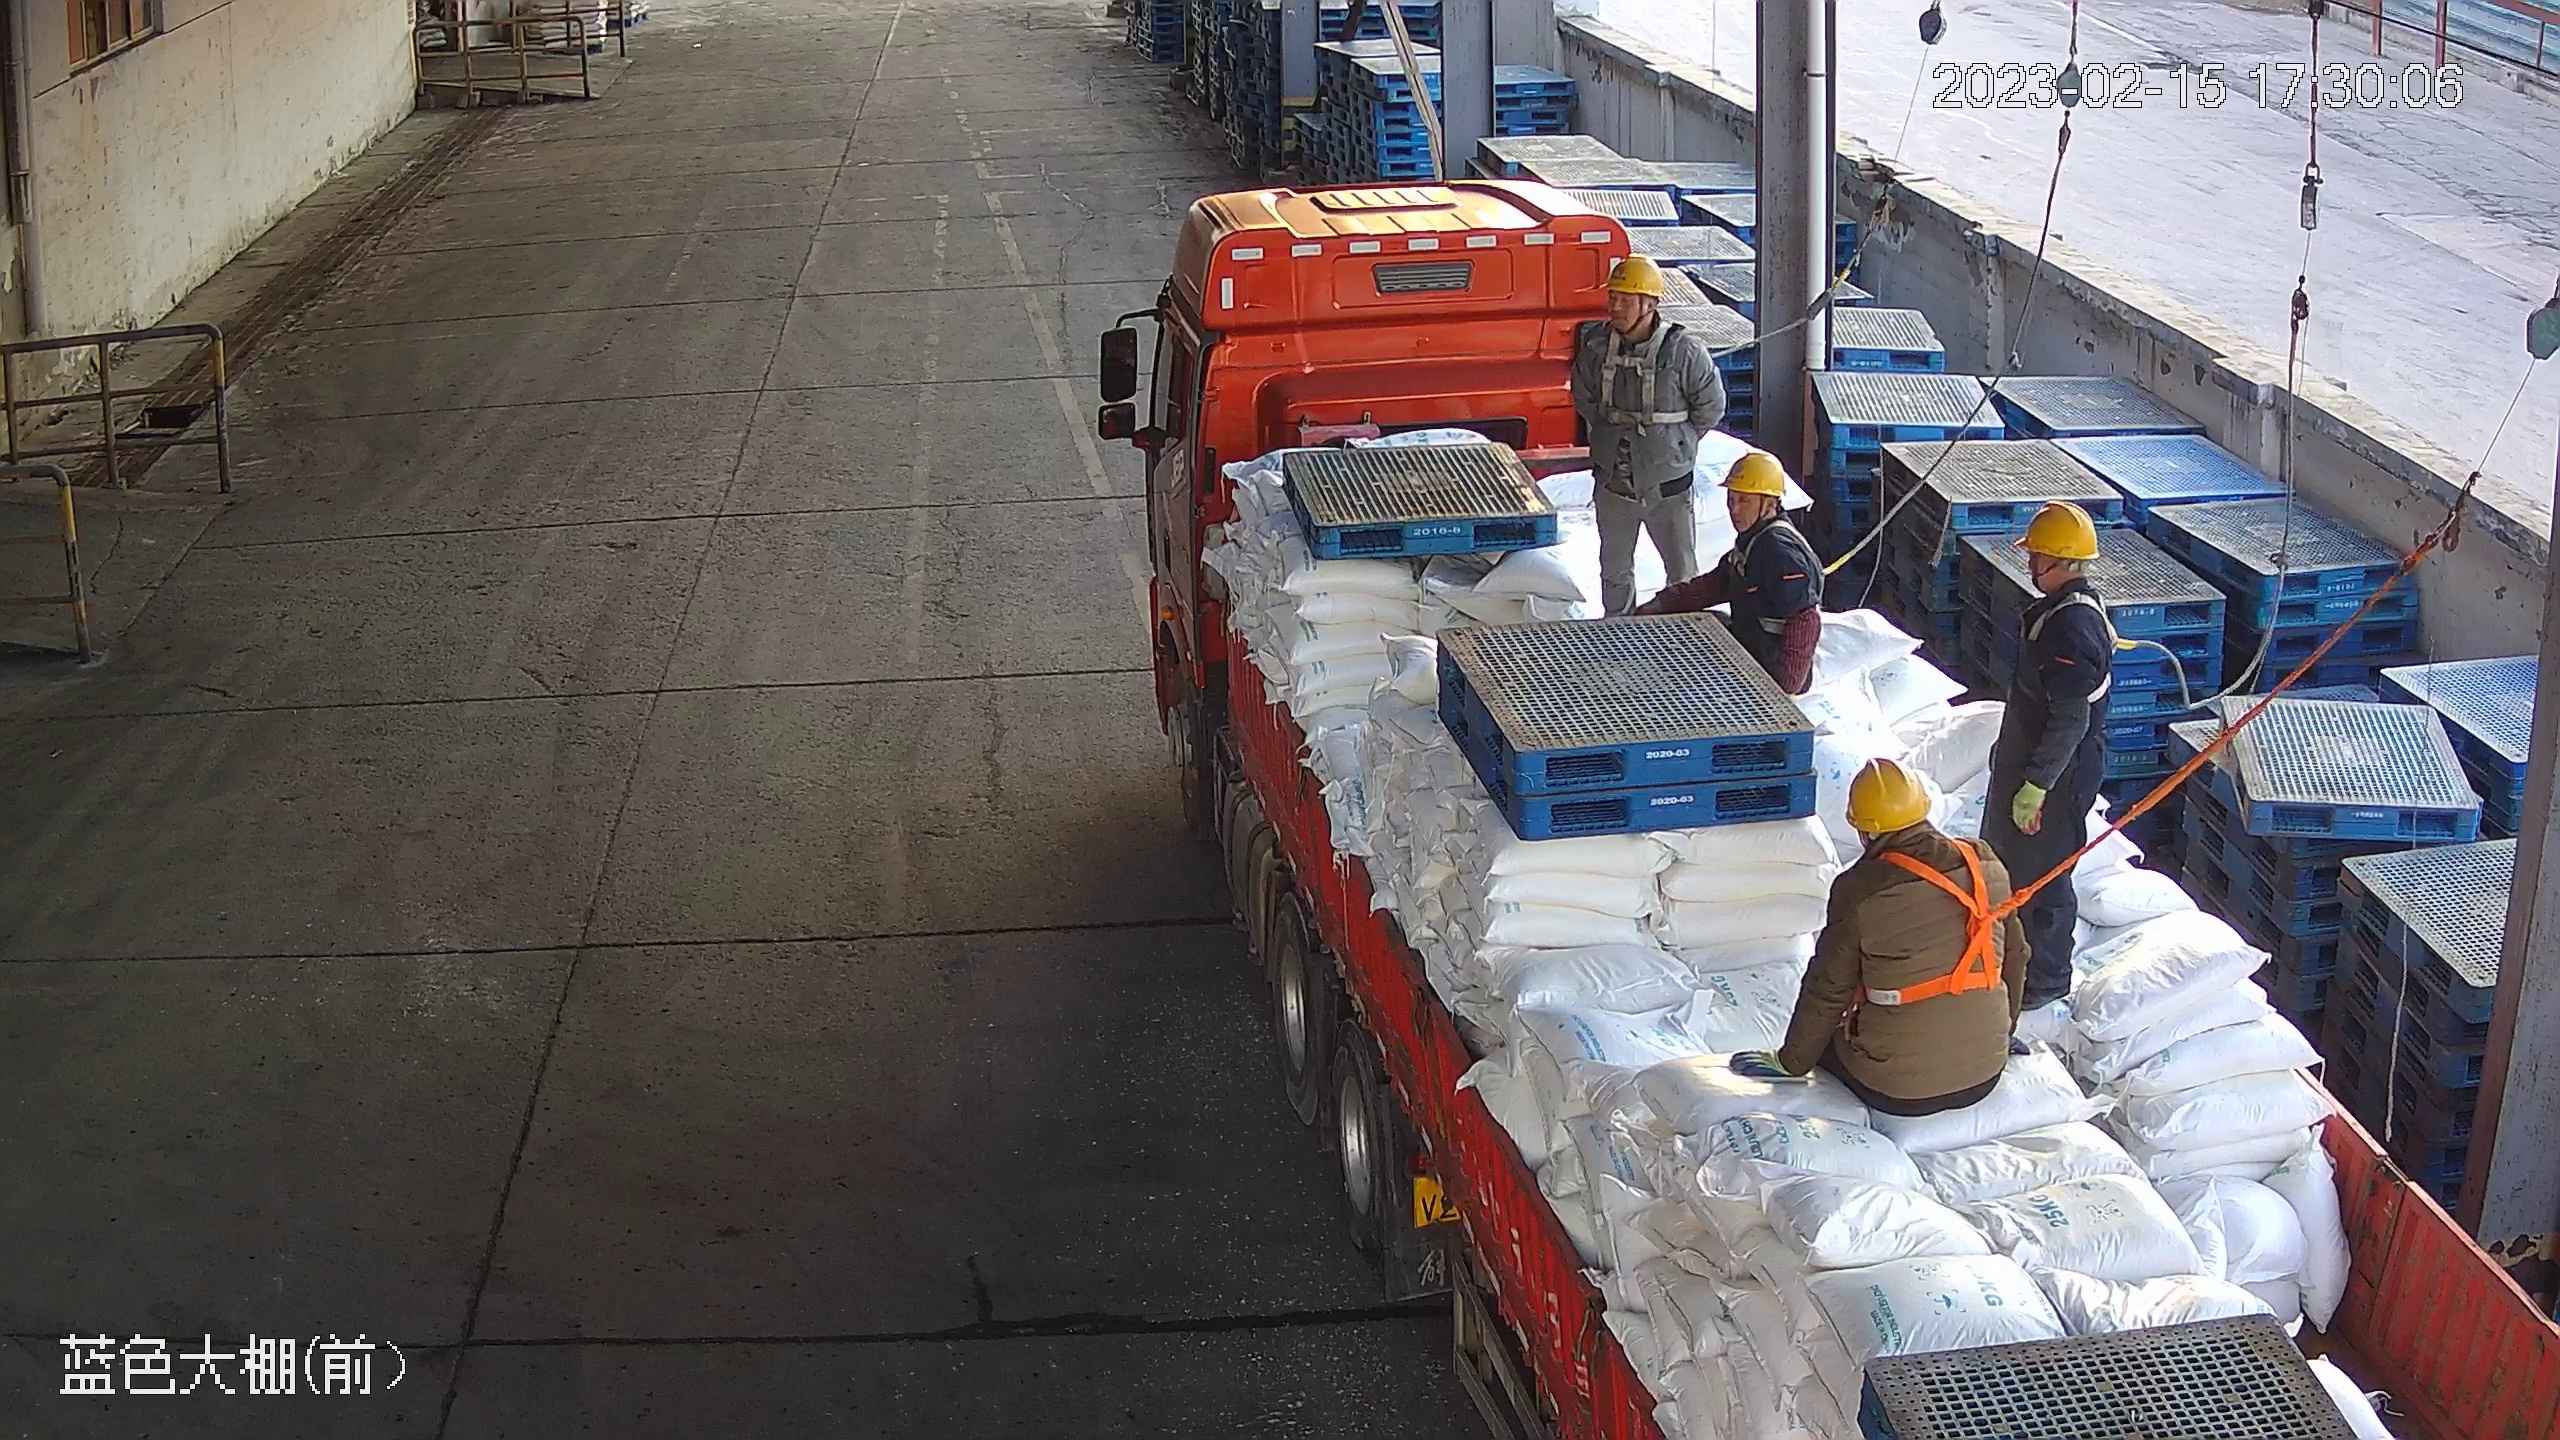belt: (1857, 835, 2048, 1006), (2020, 587, 2149, 706), (1594, 316, 1727, 426), (1723, 519, 1843, 638)
head: (1827, 752, 2018, 898), (2013, 497, 2117, 646), (1576, 252, 1713, 361), (1711, 449, 1820, 563)
helmet: (1844, 754, 1930, 836), (2013, 497, 2101, 563), (1717, 450, 1786, 499), (1604, 251, 1667, 300)
people: (1727, 752, 2035, 1118), (1978, 498, 2118, 1015), (1563, 251, 1728, 619), (1634, 446, 1825, 699)
truck: (1141, 177, 2560, 1440)
